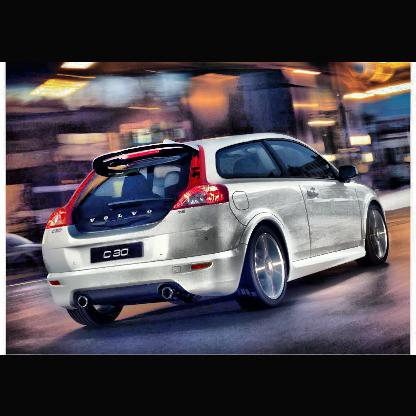Volvo C30 Hatchback 2012: (44, 134, 393, 328)
